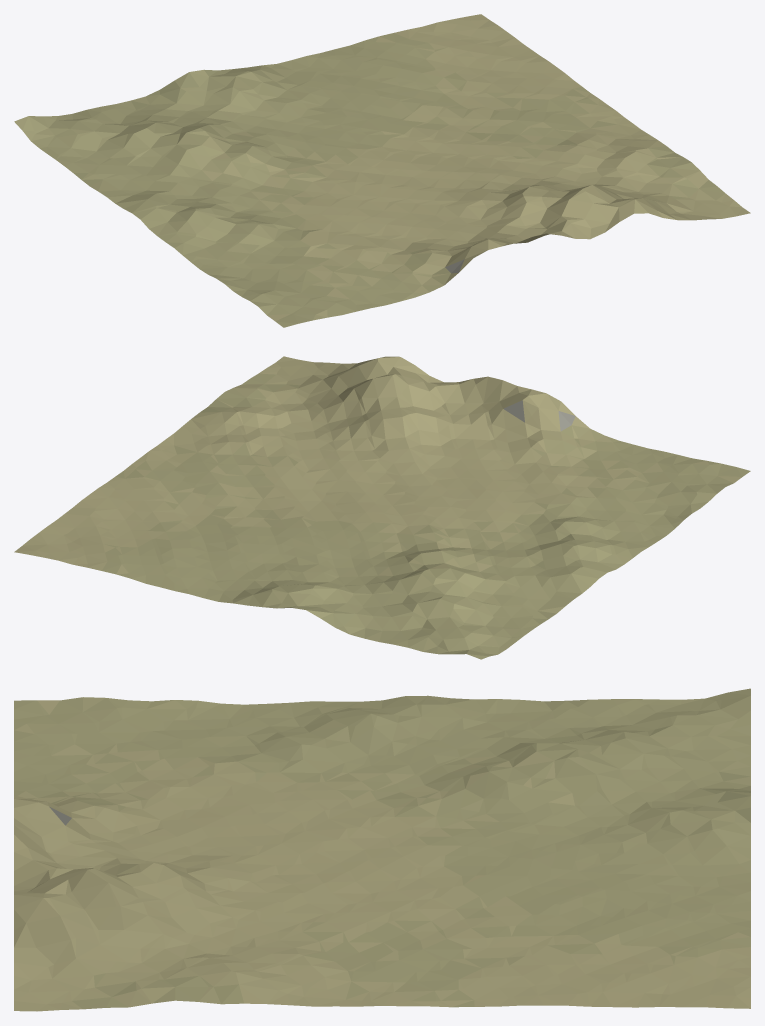
The model's file is Ground_4_-2.glb.
The picture shows the model from 3 angles, top to bottom: view 1: azimuth 30°, elevation 25°; view 2: azimuth 150°, elevation 25°; view 3: azimuth 270°, elevation 25°; orthographic projection. The views are drawn at different scales.
Parts seen in each view (by area): view 1: Ground_4_-2; view 2: Ground_4_-2; view 3: Ground_4_-2.
Part boxes in pixels (left/top/right/bottom): Ground_4_-2: left=14, top=14, right=750, bottom=327; Ground_4_-2: left=14, top=356, right=750, bottom=659; Ground_4_-2: left=14, top=688, right=750, bottom=1011.
Bounding box in the file's own units: 768 × 63.44 × 768.
